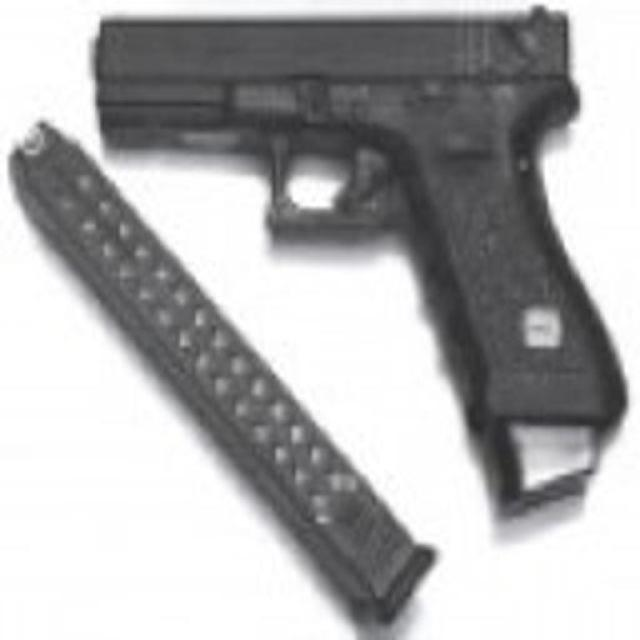pistol: (91, 5, 620, 506)
